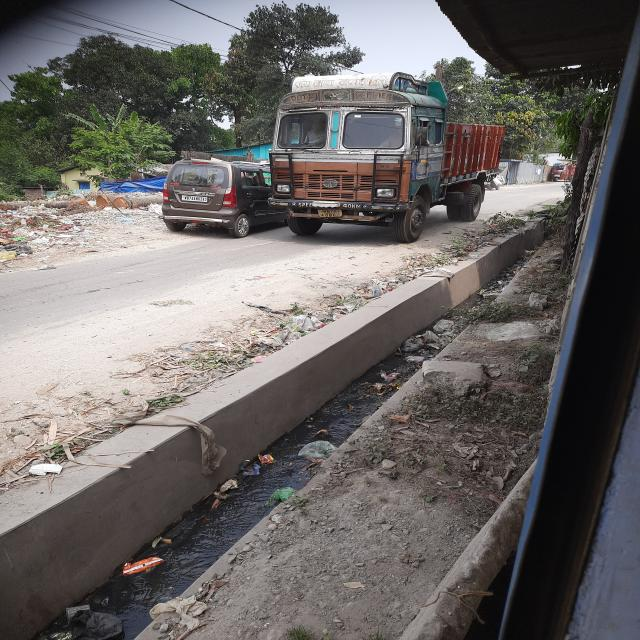Car: (157, 167, 277, 240)
Truck: (269, 67, 520, 242)
rickshaw: (546, 152, 585, 192)
